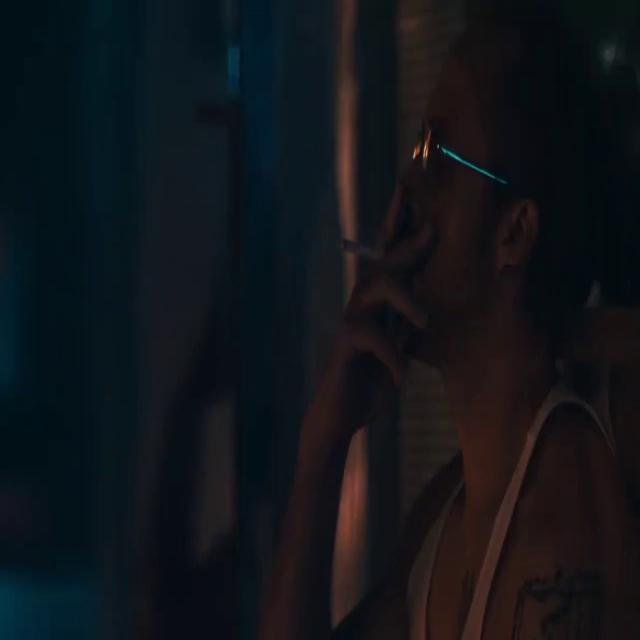Smooking: (340, 227, 384, 270)
